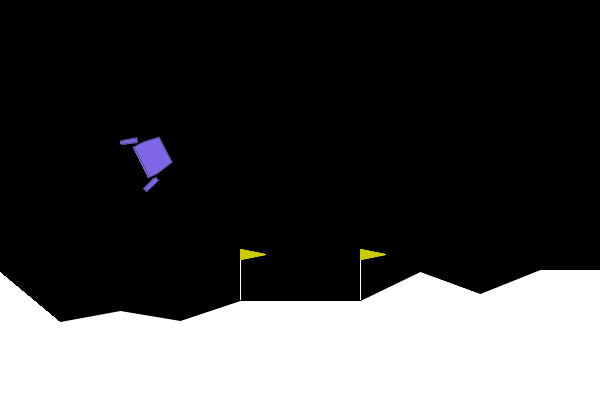lander: (118, 122, 181, 194)
